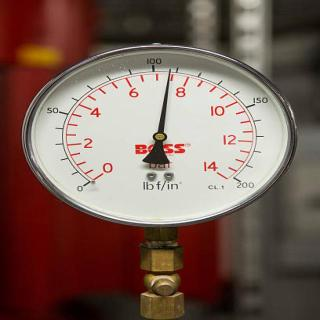gauge: (3, 44, 307, 252), (74, 170, 98, 196), (228, 168, 248, 192), (152, 130, 168, 142), (166, 66, 174, 78)
